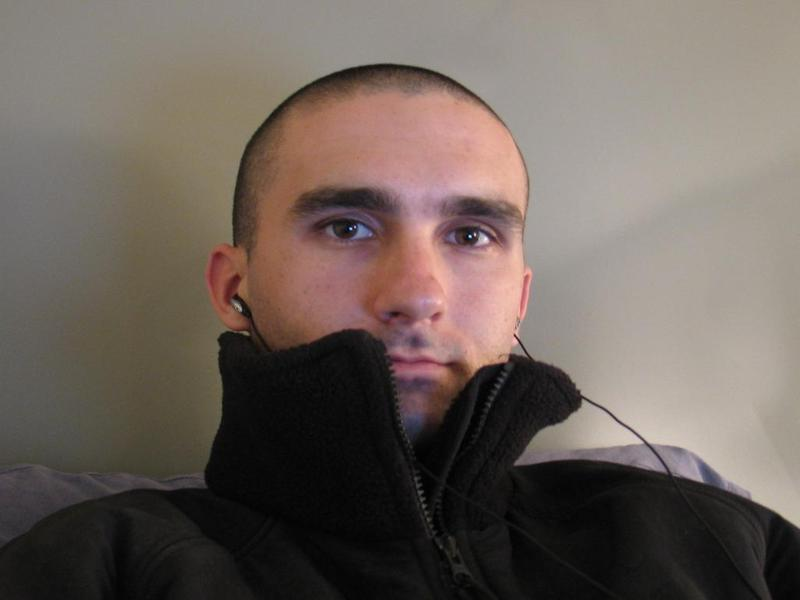person: (9, 61, 799, 600)
